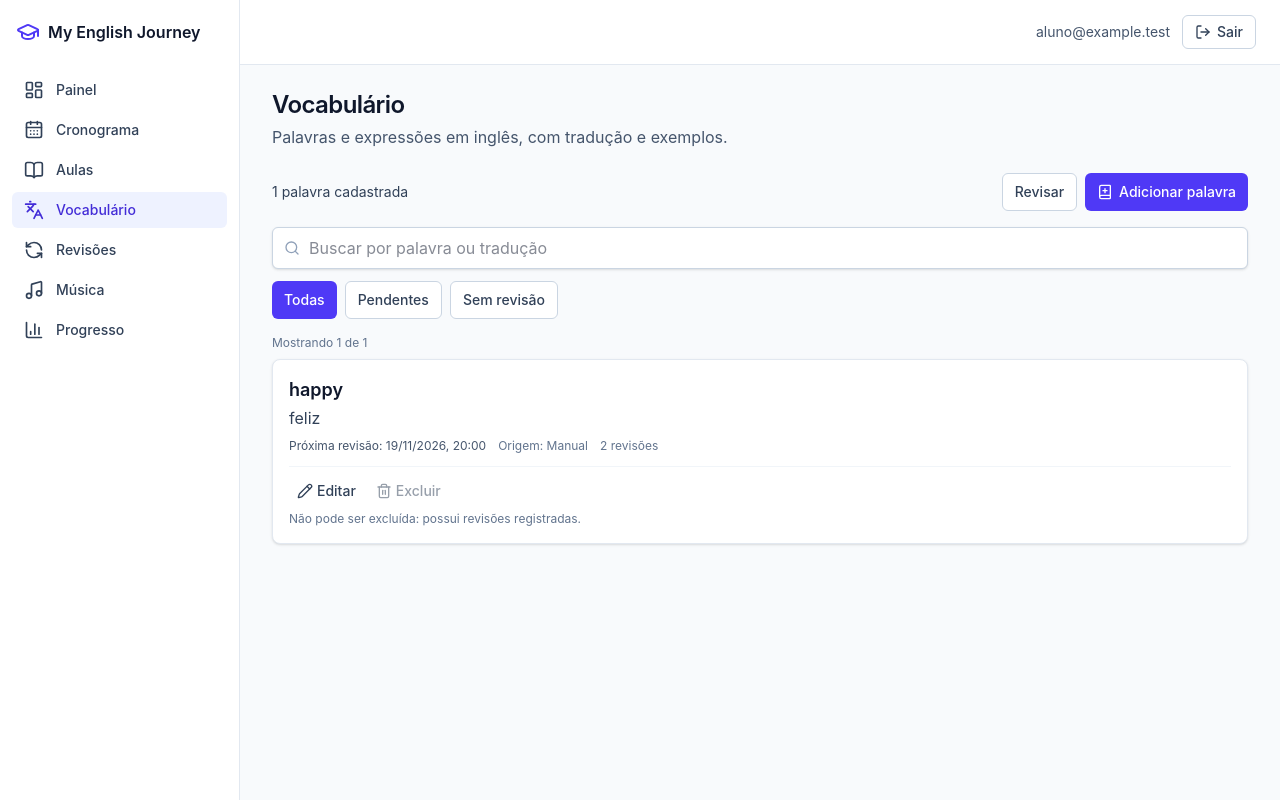
it: /vocabulary › 2. edição preserva o agendamento (não envia campos de revisão)
The width and height of the screenshot is (1280, 800).
Click the button with aria-label "Editar “happy”". click: [326, 491]
box: [289, 475, 364, 507]
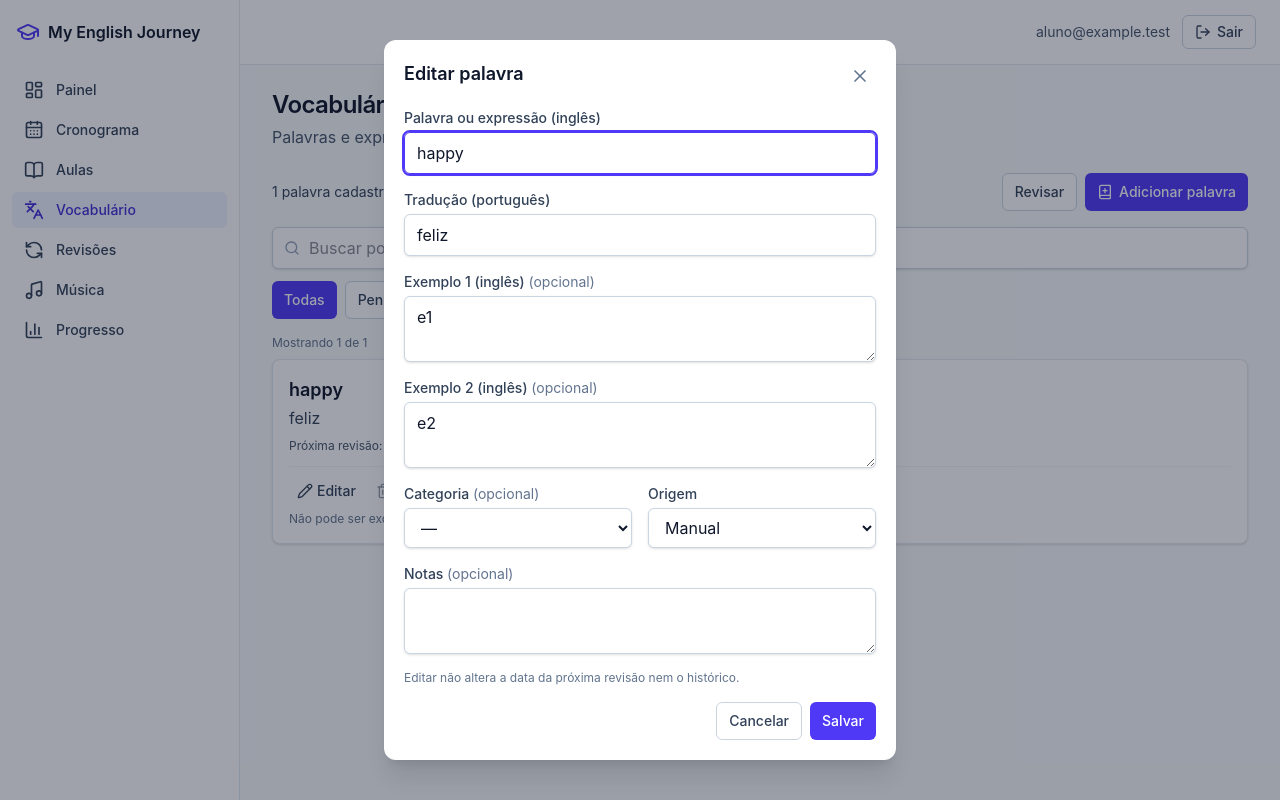
Replace the text in the field labelled "Tradução (português)" with "contente". click: [640, 235]
box: [404, 214, 876, 256]
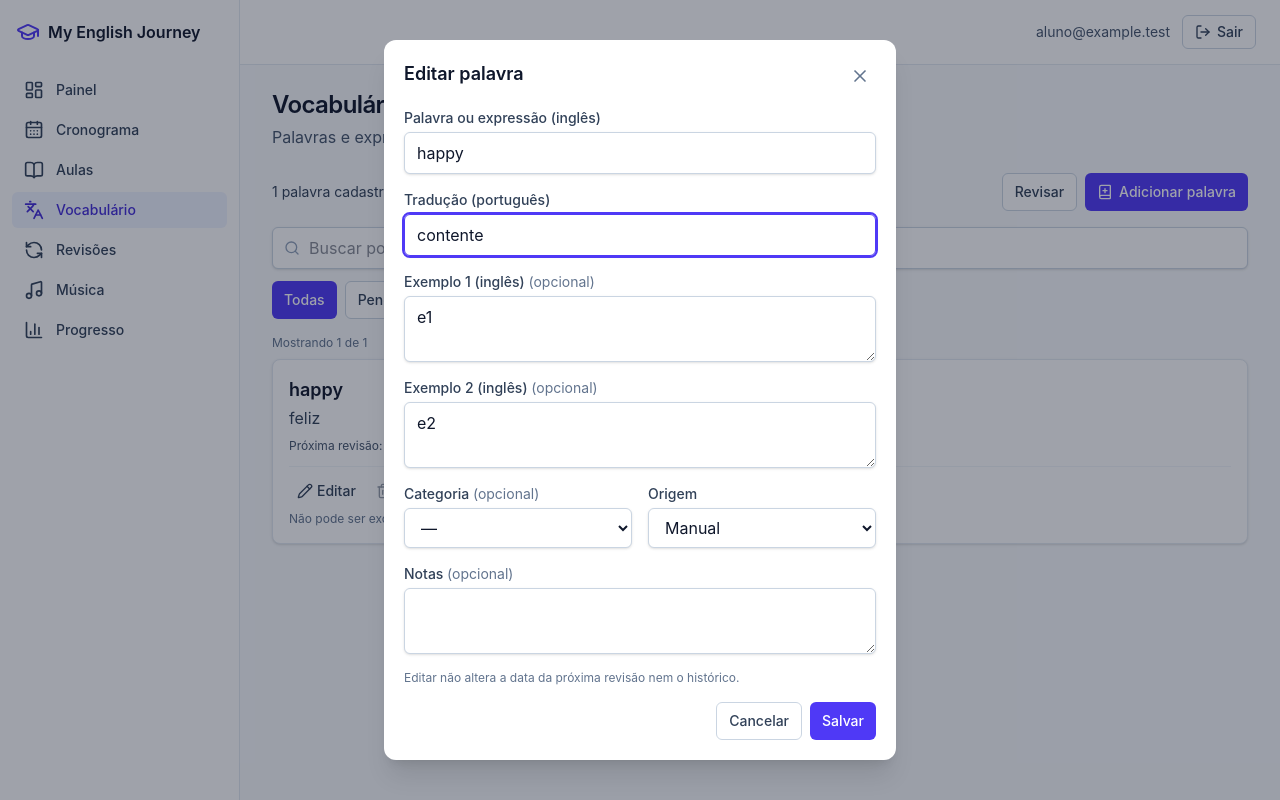
Click the button "Salvar". click: [843, 721]
box: [810, 702, 876, 740]
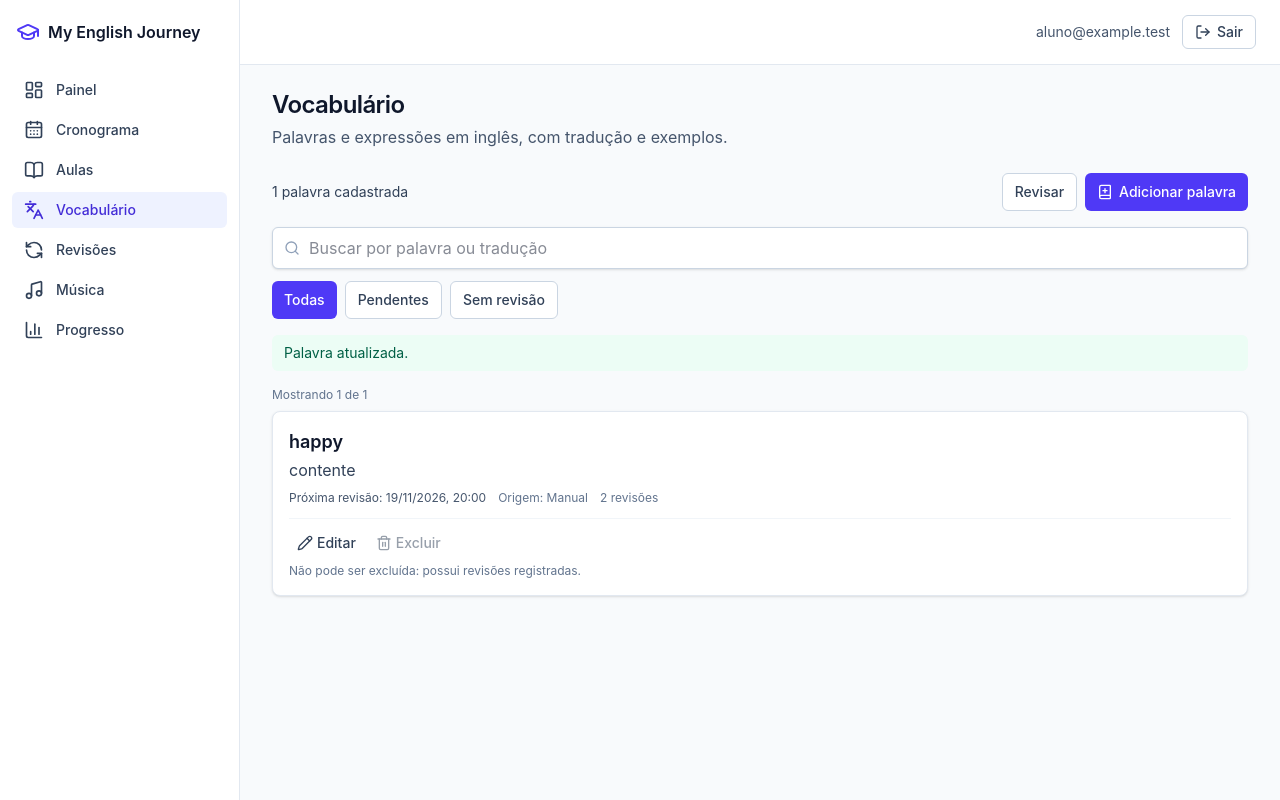
Now the dialog is gone
